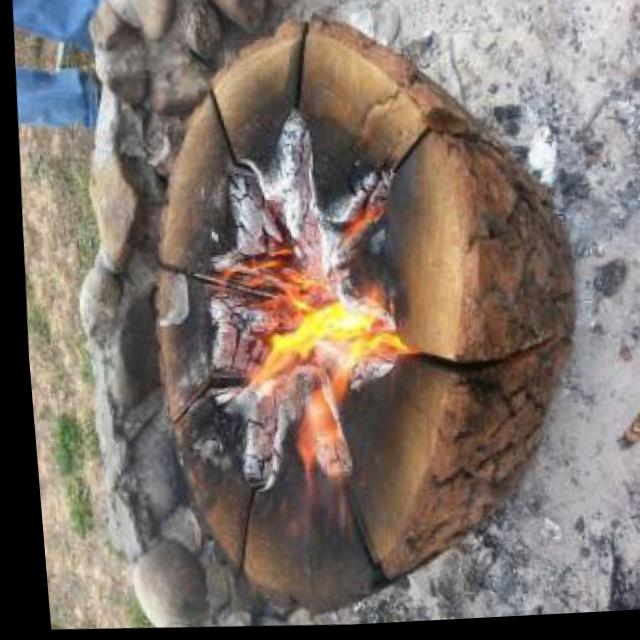Fire: (216, 277, 405, 417)
